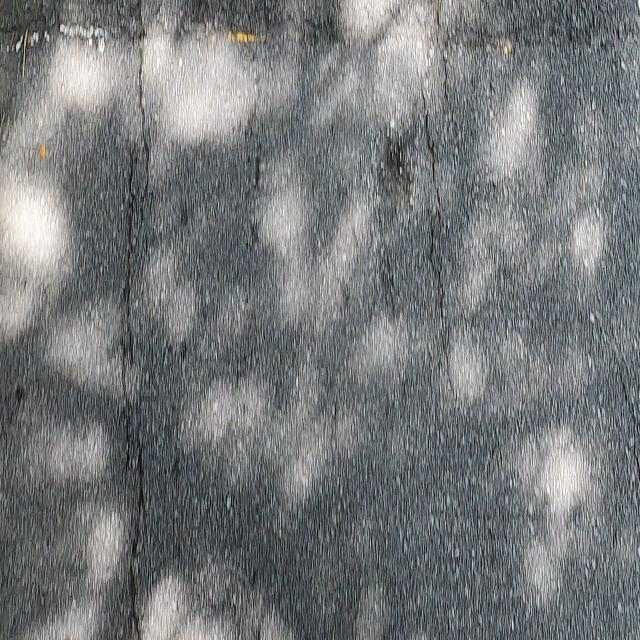Retak-Memanjang: (426, 221, 457, 403), (126, 390, 147, 640), (121, 131, 139, 365), (134, 2, 155, 202), (415, 86, 444, 223), (119, 341, 134, 488)
